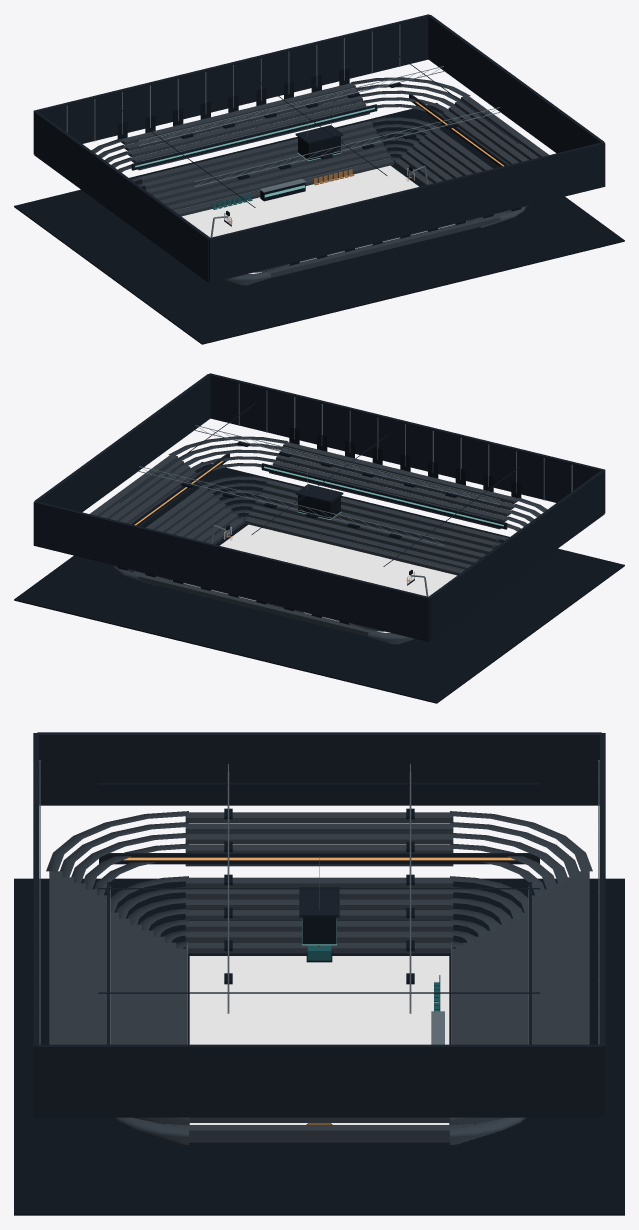
The model's file is arena-lod1.glb.
The picture shows the model from 3 angles, top to bottom: view 1: azimuth 30°, elevation 25°; view 2: azimuth 150°, elevation 25°; view 3: azimuth 270°, elevation 25°; orthographic projection. The views are drawn at different scales.
Parts seen in each view (by area): view 1: bowl__black, bowl__concrete, wall-south__structure, wall-north__structure, wall-west__structure, wall-east__structure, court__parquet, bowl__structure, roof__steel, bowl__steel, scoreboard__black, roof__structure (+3 smaller); view 2: bowl__black, bowl__concrete, wall-north__structure, wall-south__structure, wall-west__structure, wall-east__structure, court__parquet, bowl__structure, roof__steel, bowl__steel, scoreboard__black, roof__structure (+4 smaller); view 3: bowl__concrete, bowl__black, wall-east__structure, wall-west__structure, court__parquet, bowl__structure, roof__structure, wall-north__structure, wall-south__structure, ribbon__amber-led, roof__steel, scoreboard__structure (+3 smaller).
Part boxes in pixels (bbox=[...]): bowl__black: bbox=[14, 67, 624, 344]; bowl__concrete: bbox=[91, 77, 548, 285]; wall-south__structure: bbox=[208, 142, 605, 282]; wall-north__structure: bbox=[33, 14, 429, 153]; wall-west__structure: bbox=[34, 111, 210, 282]; wall-east__structure: bbox=[428, 15, 604, 153]; court__parquet: bbox=[182, 165, 466, 273]; bowl__structure: bbox=[131, 94, 507, 170]; roof__steel: bbox=[139, 66, 499, 186]; bowl__steel: bbox=[66, 24, 400, 141]; scoreboard__black: bbox=[298, 136, 340, 160]; roof__structure: bbox=[119, 44, 518, 207]; bowl__black: bbox=[14, 426, 624, 703]; bowl__concrete: bbox=[90, 436, 547, 644]; wall-north__structure: bbox=[33, 501, 430, 641]; wall-south__structure: bbox=[209, 373, 605, 512]; wall-west__structure: bbox=[428, 470, 604, 641]; wall-east__structure: bbox=[34, 374, 210, 512]; court__parquet: bbox=[172, 524, 456, 632]; bowl__structure: bbox=[131, 453, 507, 529]; roof__steel: bbox=[139, 425, 499, 545]; bowl__steel: bbox=[238, 383, 572, 500]; scoreboard__black: bbox=[298, 495, 340, 519]; roof__structure: bbox=[120, 403, 519, 566]; bowl__concrete: bbox=[46, 811, 592, 1144]; bowl__black: bbox=[14, 878, 624, 1215]; wall-east__structure: bbox=[37, 1044, 601, 1117]; wall-west__structure: bbox=[37, 732, 601, 805]; court__parquet: bbox=[189, 956, 449, 1124]; bowl__structure: bbox=[99, 853, 539, 1044]; roof__structure: bbox=[98, 783, 540, 993]; wall-north__structure: bbox=[600, 733, 605, 1116]; wall-south__structure: bbox=[33, 733, 38, 1116]; ribbon__amber-led: bbox=[123, 857, 515, 860]; roof__steel: bbox=[227, 764, 411, 1013]; scoreboard__structure: bbox=[299, 887, 339, 917].
Size of the model in its own units: 61 by 15.53 by 47.
